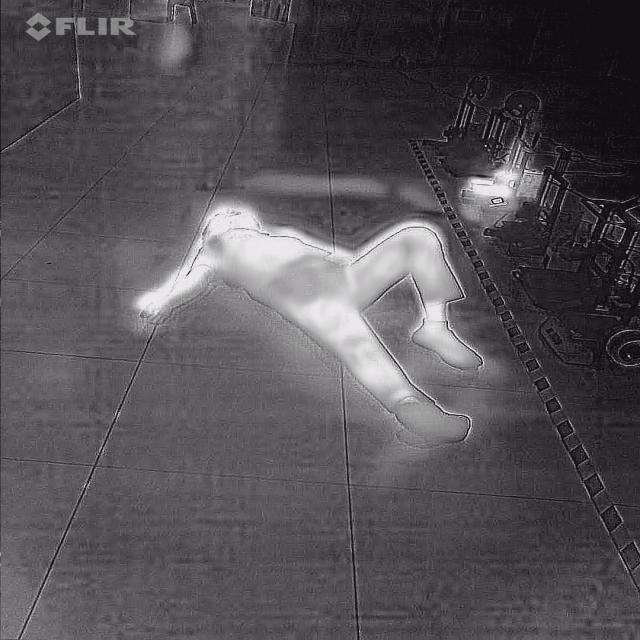Victim: (125, 199, 509, 449)
